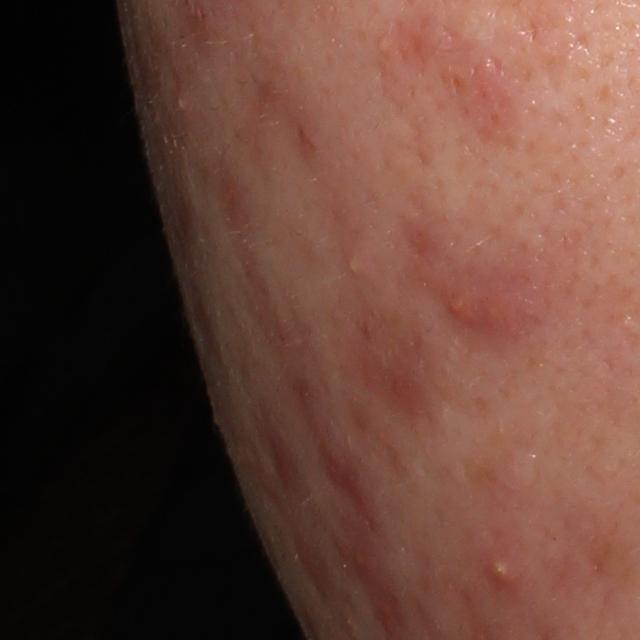papule: (437, 287, 473, 325), (351, 541, 380, 582), (173, 88, 192, 116)
pustule: (488, 553, 522, 594)
